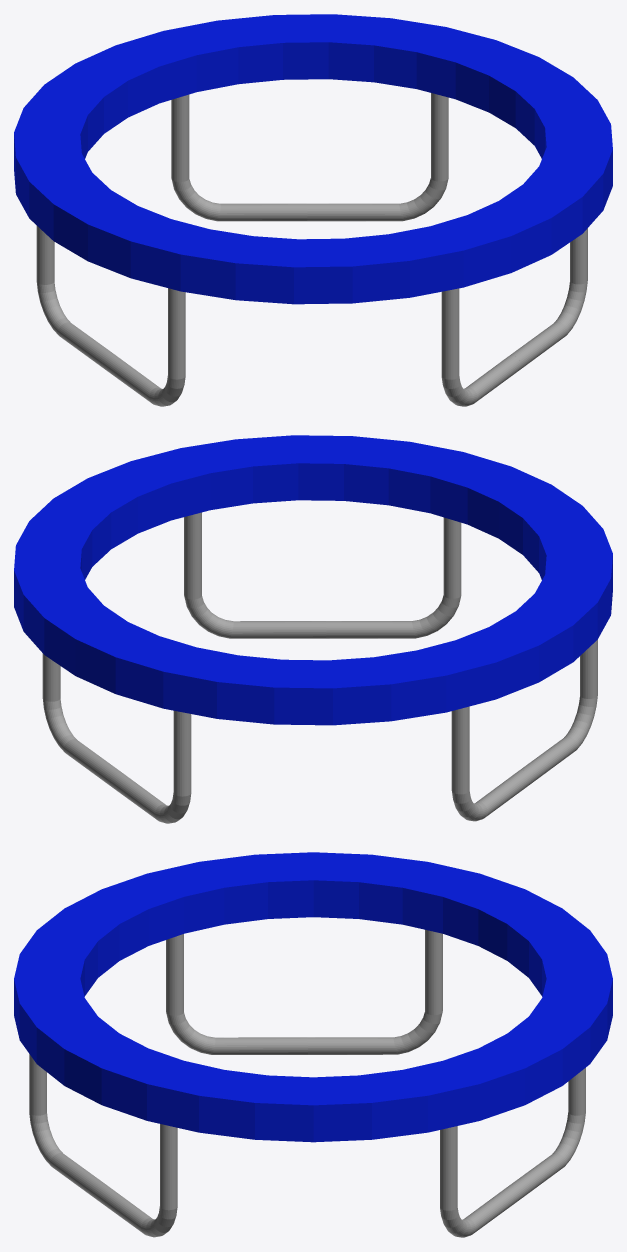
File: Trampoline2.fbx
3 views of the same model, one above another, from view 1: azimuth 30°, elevation 25°; view 2: azimuth 150°, elevation 25°; view 3: azimuth 270°, elevation 25° (orthographic).
Visible parts, largest first — view 1: Cylinder.002; view 2: Cylinder.002; view 3: Cylinder.002.
Part boxes in pixels (bbox=[...]): Cylinder.002: bbox=[14, 14, 612, 406]; Cylinder.002: bbox=[14, 435, 612, 823]; Cylinder.002: bbox=[14, 852, 612, 1237].
Bounding box in the file's own units: 965 × 313 × 965.
